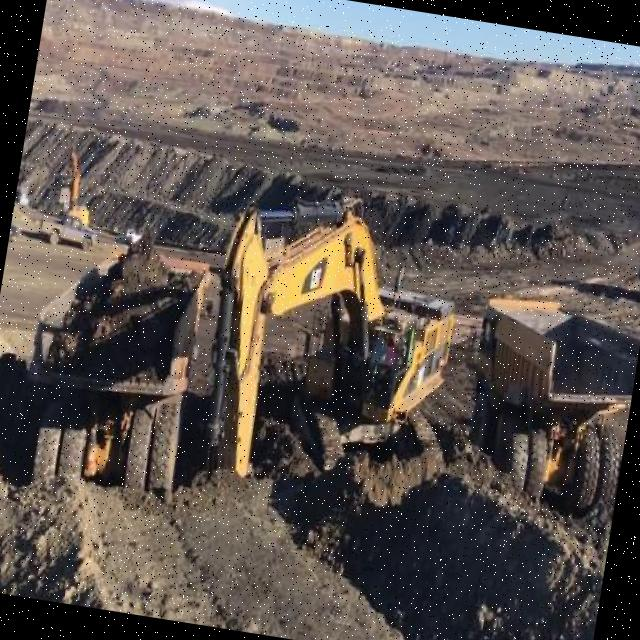Dump Truck: (0, 219, 215, 503), (447, 287, 640, 518), (634, 233, 640, 301)
Excavator: (174, 175, 476, 511), (57, 152, 97, 218)
